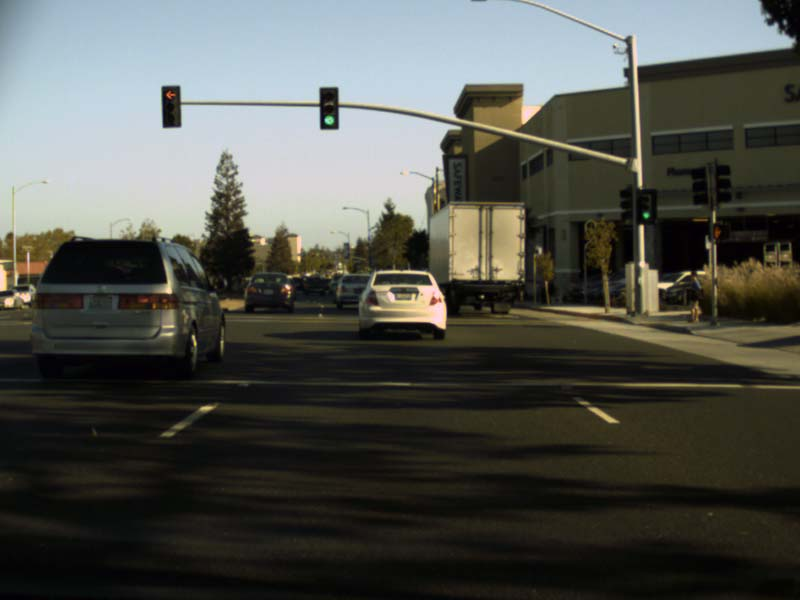Green: (319, 87, 338, 129), (641, 195, 651, 221)
Red: (161, 86, 180, 127)
